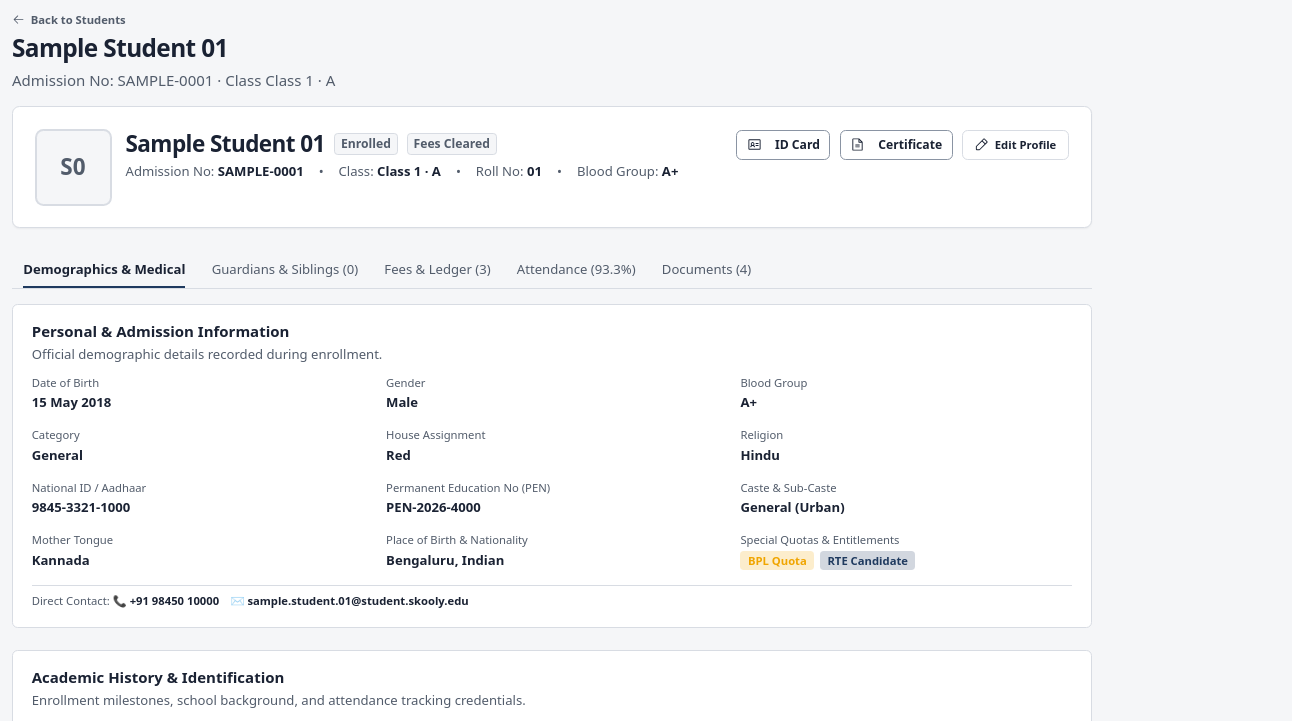
Test: StudentDetailPage › allows switching between profile tabs
Check: the heading "Sample Student 01" below "Back to Students" is shown, box [12,33,228,63]
Note: Switch to Fees tab
Click the tab "Fees & Ledger (3)".
click(438, 269)  # box [373,251,502,288]
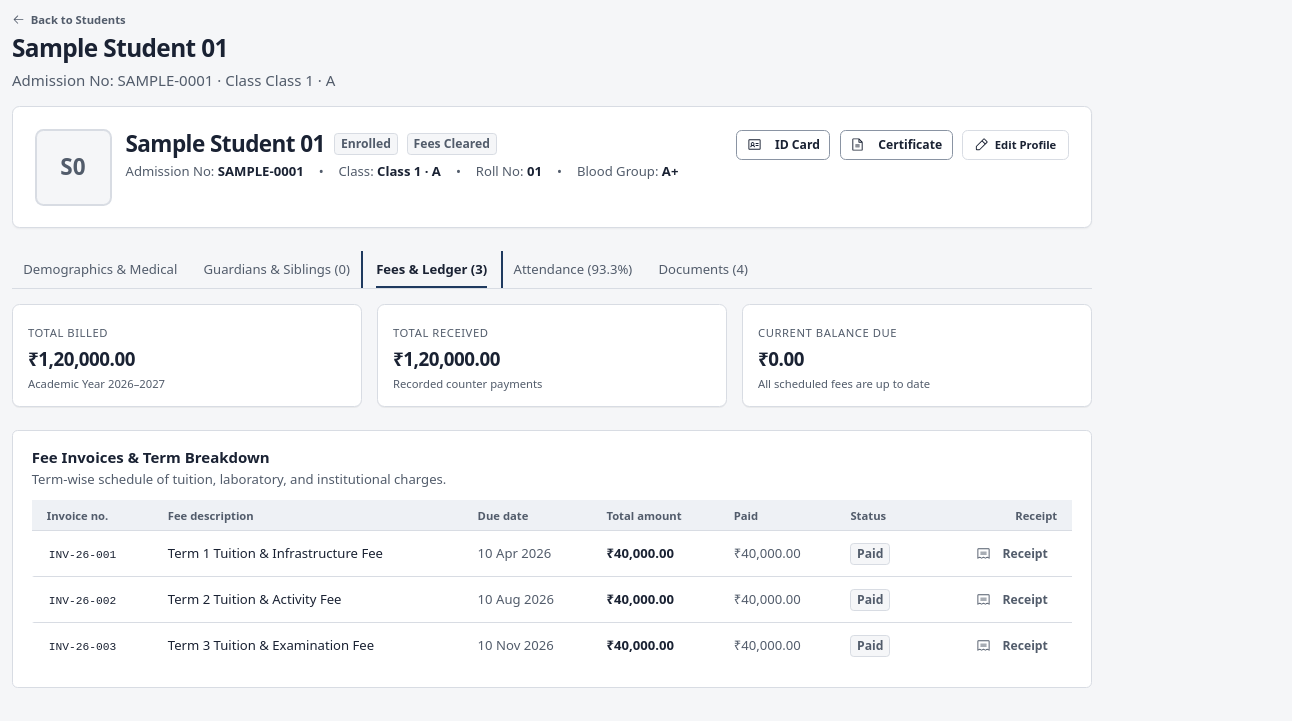
Check: the heading "Fee Invoices & Term Breakdown" is shown, box [32,447,270,467]
Check: the text "Total Received" is shown, box [393,325,488,340]
Note: Switch to Attendance tab
Click the tab "Attendance (93.3%)".
click(573, 269)  # box [502,251,644,288]
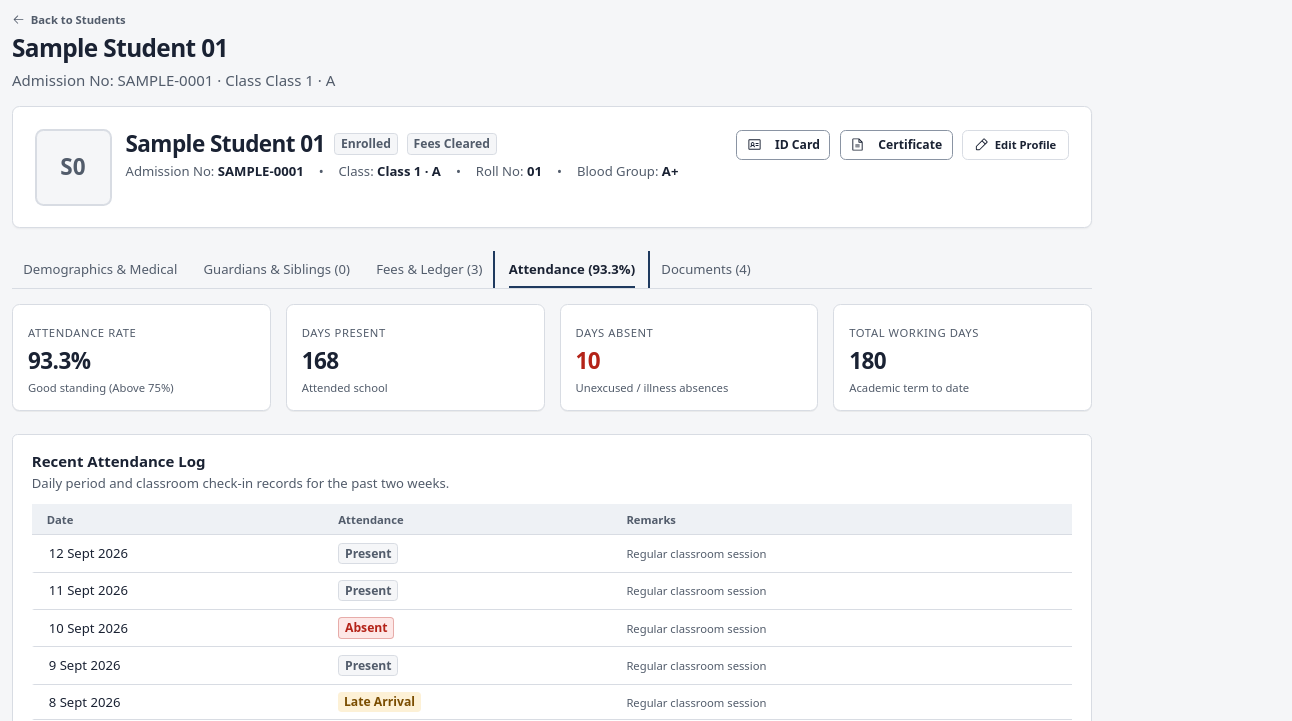
Check: the heading "Recent Attendance Log" is shown, box [32,451,206,471]
Check: the text "Total Working Days" is shown, box [849,325,979,340]
Note: Switch to Documents tab
Click the tab "Documents (4)".
click(706, 269)  # box [650,251,762,288]
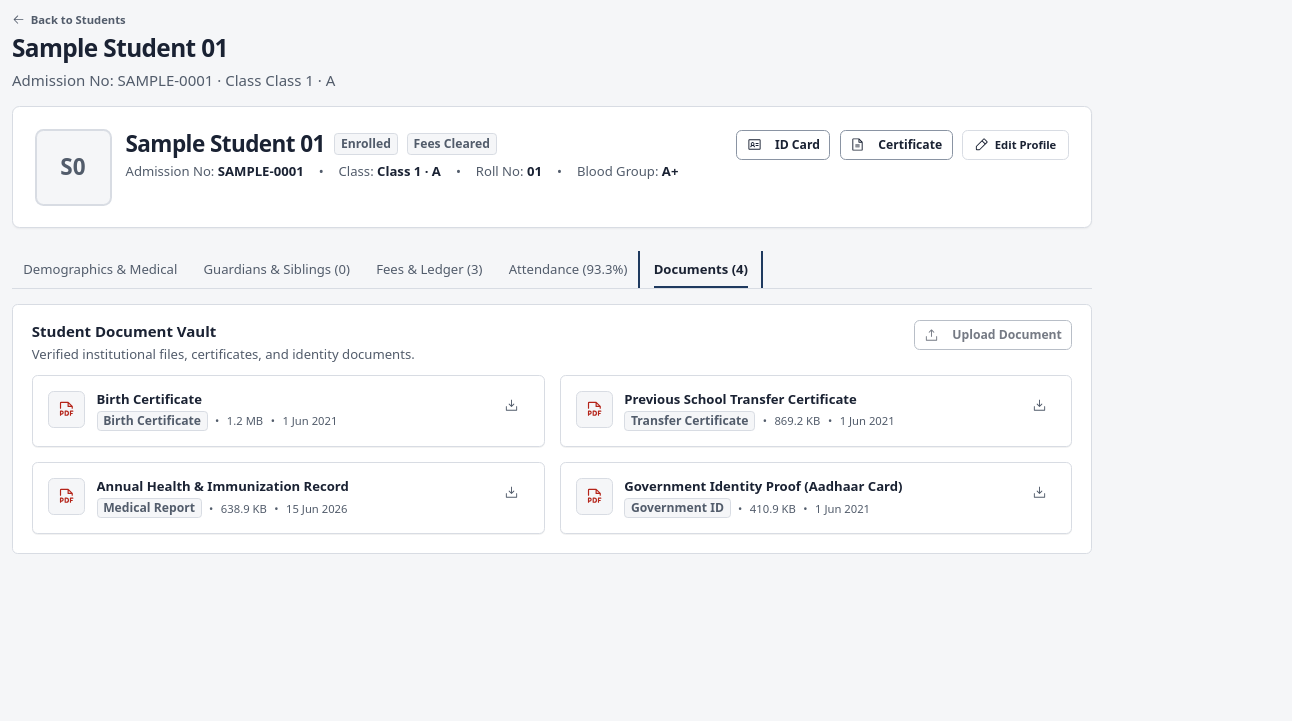
Check: the heading "Student Document Vault" is shown, box [32,321,216,341]
